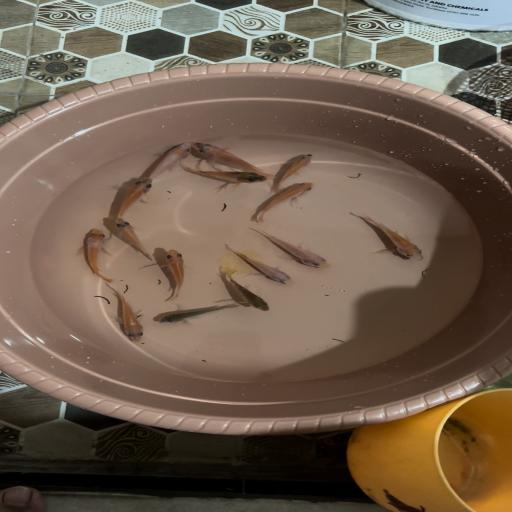nila: (341, 210, 430, 264), (88, 288, 151, 344), (210, 266, 282, 314), (254, 228, 338, 268), (220, 244, 292, 288), (154, 297, 244, 332), (70, 228, 126, 284), (186, 137, 271, 173), (244, 182, 320, 221), (150, 247, 200, 297), (170, 168, 266, 194), (109, 174, 162, 218), (134, 142, 196, 178), (105, 220, 161, 256), (272, 150, 319, 185)
